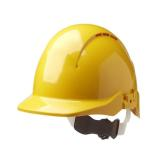Helmet: (17, 23, 140, 119)
